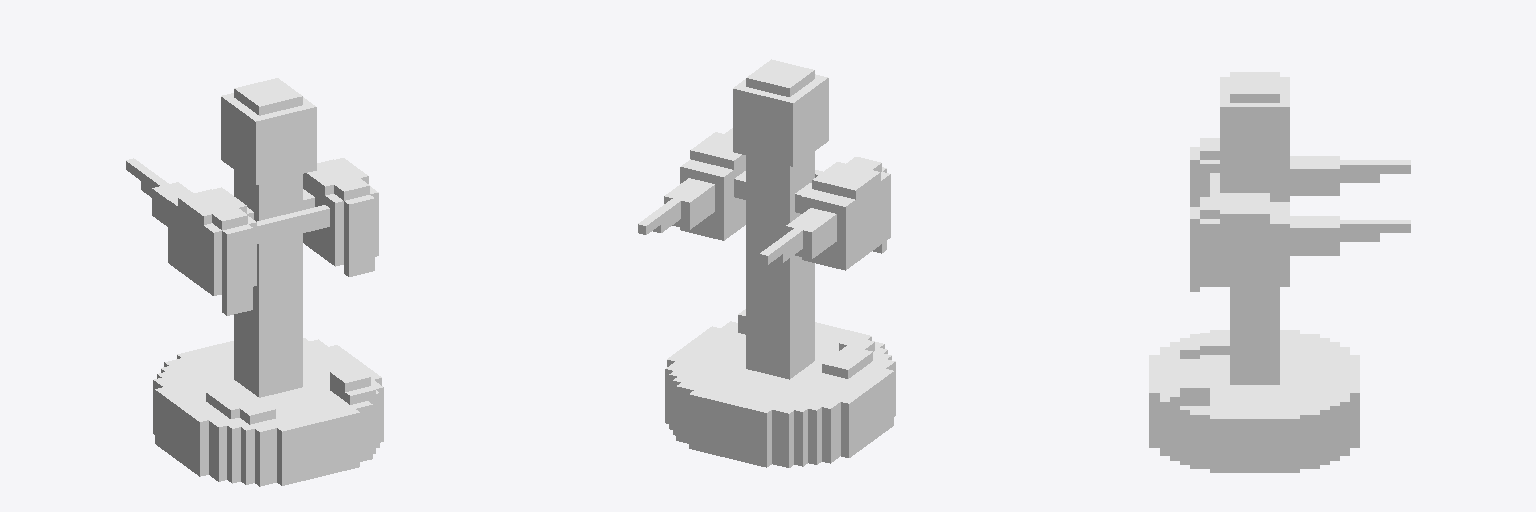
Rendered from G-Tower.obj.
The picture shows the model from 3 angles: view 1: azimuth 30°, elevation 25°; view 2: azimuth 150°, elevation 25°; view 3: azimuth 270°, elevation 25°; orthographic projection.
Parts seen in each view (by area): view 1: object 1; view 2: object 1; view 3: object 1.
Part boxes in pixels (x1,y1,x2,y2): object 1: (126,78,383,486); object 1: (638,59,895,467); object 1: (1149,72,1410,472).
Size of the model in its own units: 2.1 by 3.8 by 2.6.